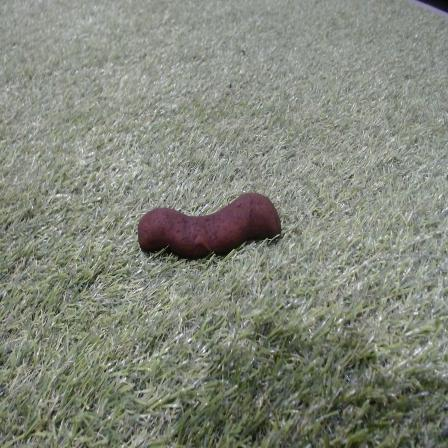dog-poop: (134, 188, 284, 262)
